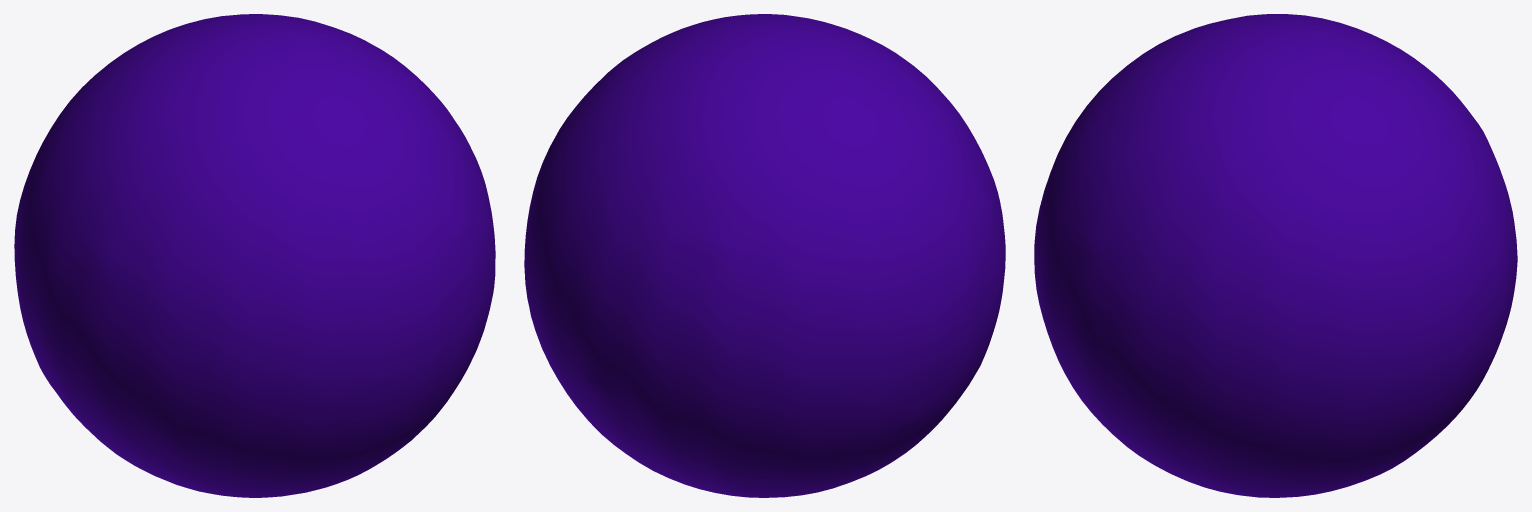
Rendered from water.fbx.
3 views of the same model, side by side, from view 1: azimuth 30°, elevation 25°; view 2: azimuth 150°, elevation 25°; view 3: azimuth 270°, elevation 25° (orthographic).
Visible parts, largest first — view 1: base_sphere_water; view 2: base_sphere_water; view 3: base_sphere_water.
Part boxes in pixels (box(x1,y1,x2,y2)): base_sphere_water: box(14, 14, 495, 497); base_sphere_water: box(524, 14, 1005, 497); base_sphere_water: box(1034, 14, 1517, 497).
Size of the model in its own units: 67.15 by 67.4 by 67.29.
